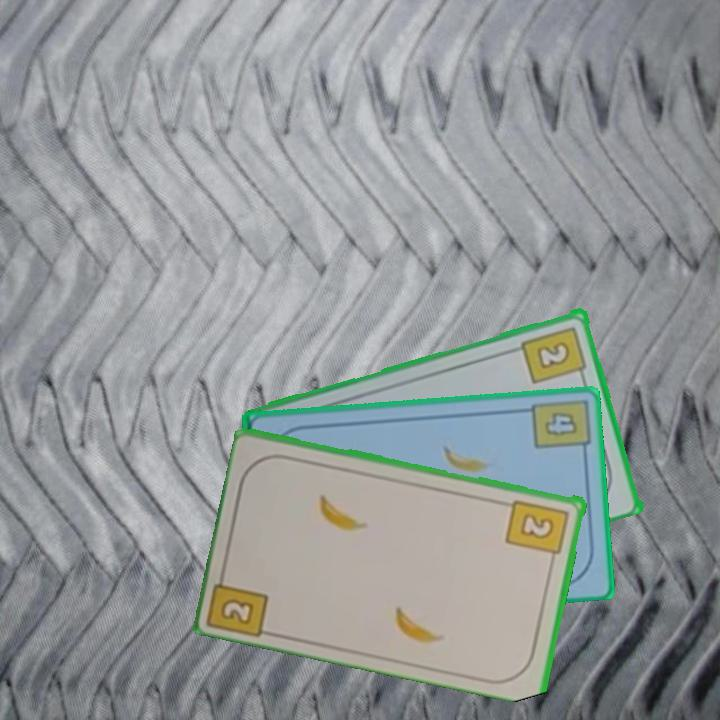2b: (503, 495, 572, 566), (207, 563, 272, 638), (519, 322, 590, 386)
4b: (527, 399, 591, 459)
